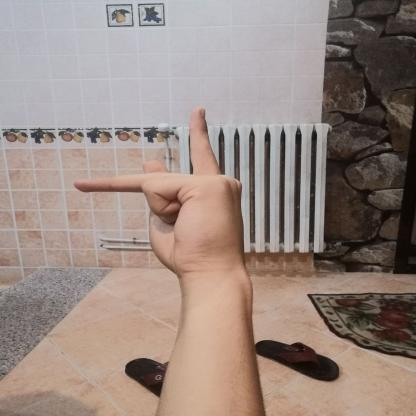DHAA: (58, 98, 255, 284)
